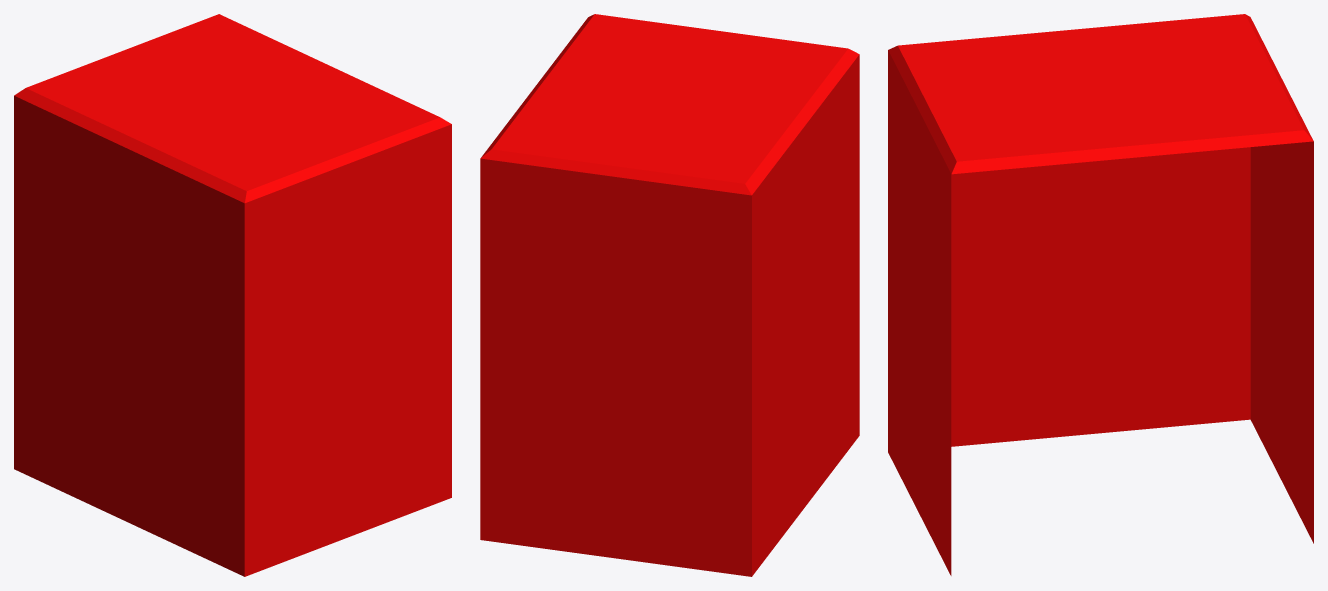
File: WitchShop_Computer2.fbx
The picture shows the model from 3 angles, left to right: view 1: azimuth 30°, elevation 25°; view 2: azimuth 150°, elevation 25°; view 3: azimuth 270°, elevation 25°; orthographic projection. The views are drawn at different scales.
Parts seen in each view (by area): view 1: ComputerSide; view 2: ComputerSide; view 3: ComputerSide.
Boxes of the visible parts, <box> form: ComputerSide: <box>14,14,451,576</box>; ComputerSide: <box>480,14,859,576</box>; ComputerSide: <box>888,14,1313,575</box>.
Size of the model in its own units: 79.3 by 96.47 by 90.68.
